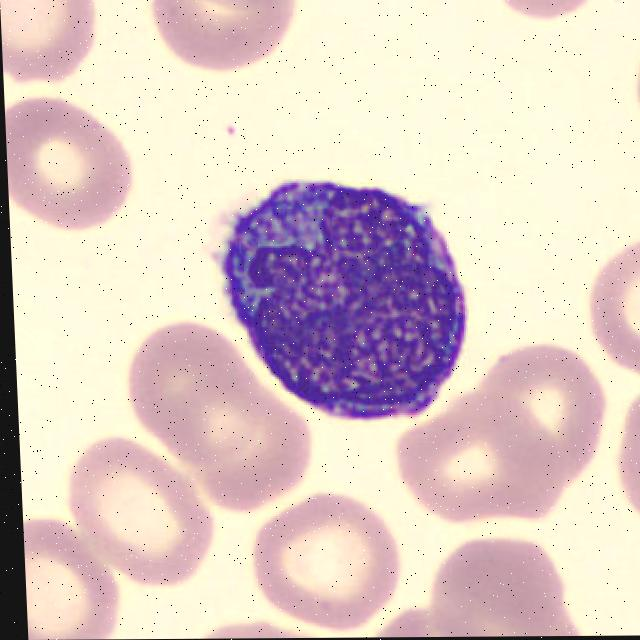monocyte: (200, 173, 474, 425)
rbc: (467, 326, 618, 497), (53, 442, 227, 589), (385, 393, 555, 540), (239, 494, 413, 630), (122, 331, 258, 489), (4, 92, 144, 240), (201, 378, 341, 516), (430, 529, 586, 637), (127, 0, 298, 86), (567, 223, 640, 385), (23, 521, 121, 640), (0, 0, 107, 100), (496, 0, 610, 44), (610, 382, 640, 545), (165, 0, 338, 12)
